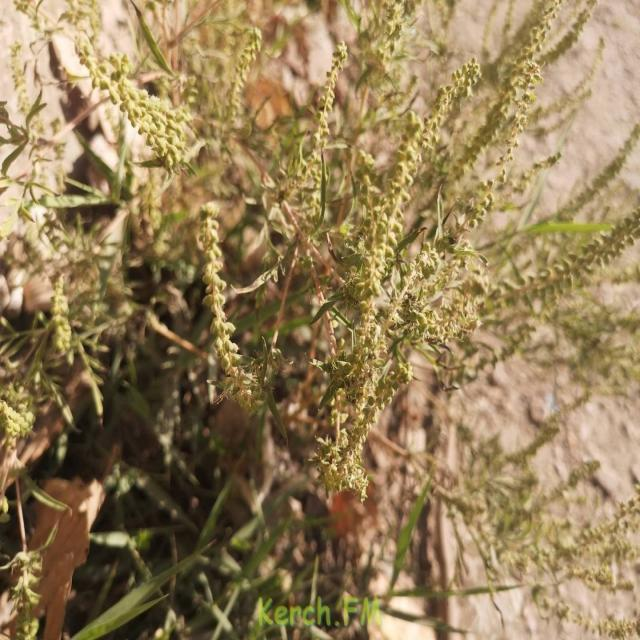ambrosia: (308, 56, 482, 478), (35, 0, 266, 172), (158, 182, 274, 381), (520, 174, 640, 345), (20, 248, 87, 442)
